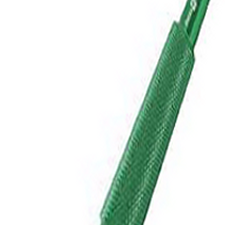Screwdriver: (70, 1, 224, 223)
